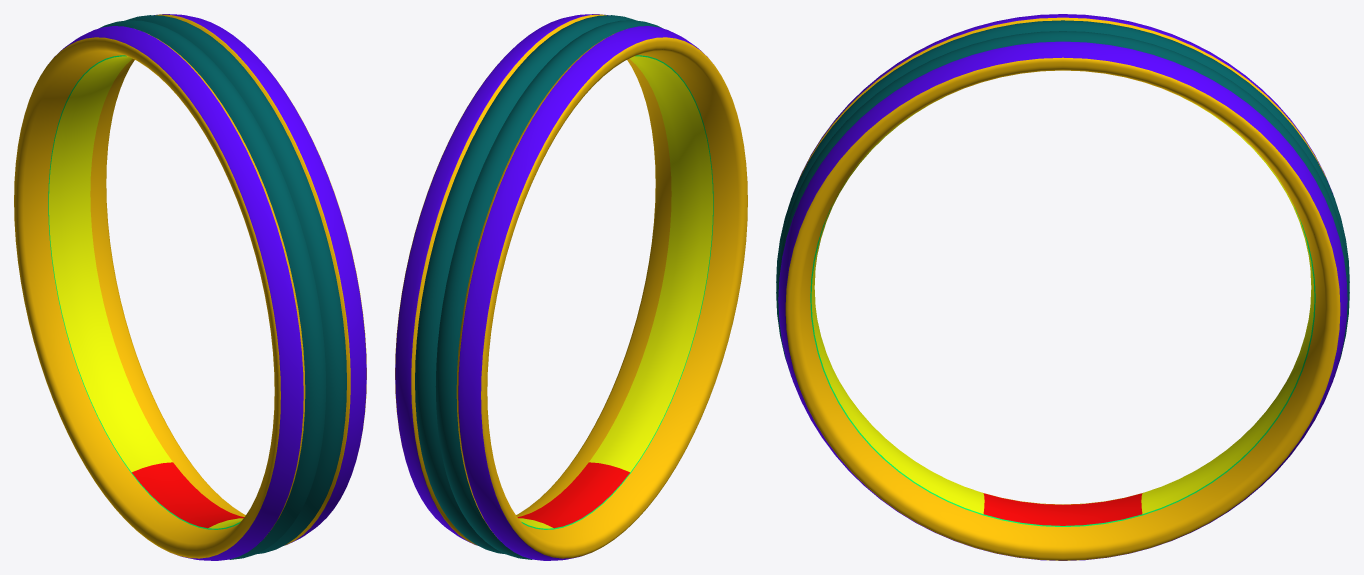
3 renders of one model, left to right at view 1: azimuth 30°, elevation 25°; view 2: azimuth 150°, elevation 25°; view 3: azimuth 270°, elevation 25°, orthographic. The views are drawn at different scales.
Parts seen in each view (by area): view 1: IN1286; view 2: IN1286; view 3: IN1286.
Boxes of the visible parts, x1,y1,x2,y2 form: IN1286: (14,14,366,560); IN1286: (395,14,747,560); IN1286: (776,14,1349,560).
Bounding box in the file's own units: 0.004 × 0.0215 × 0.0215.
